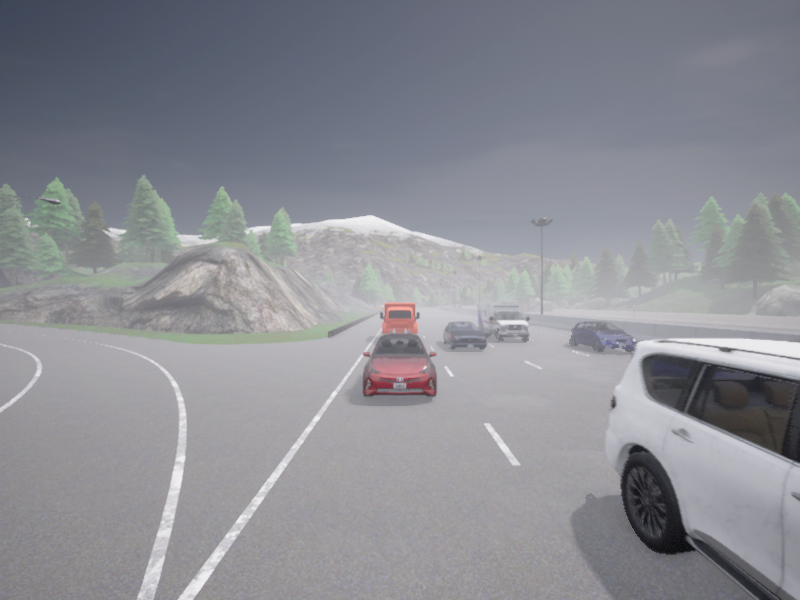vehicle: (605, 338, 799, 599), (362, 333, 436, 396), (570, 321, 636, 352), (477, 303, 529, 341), (443, 321, 487, 349), (380, 303, 419, 333), (451, 305, 456, 307), (458, 304, 461, 307)
